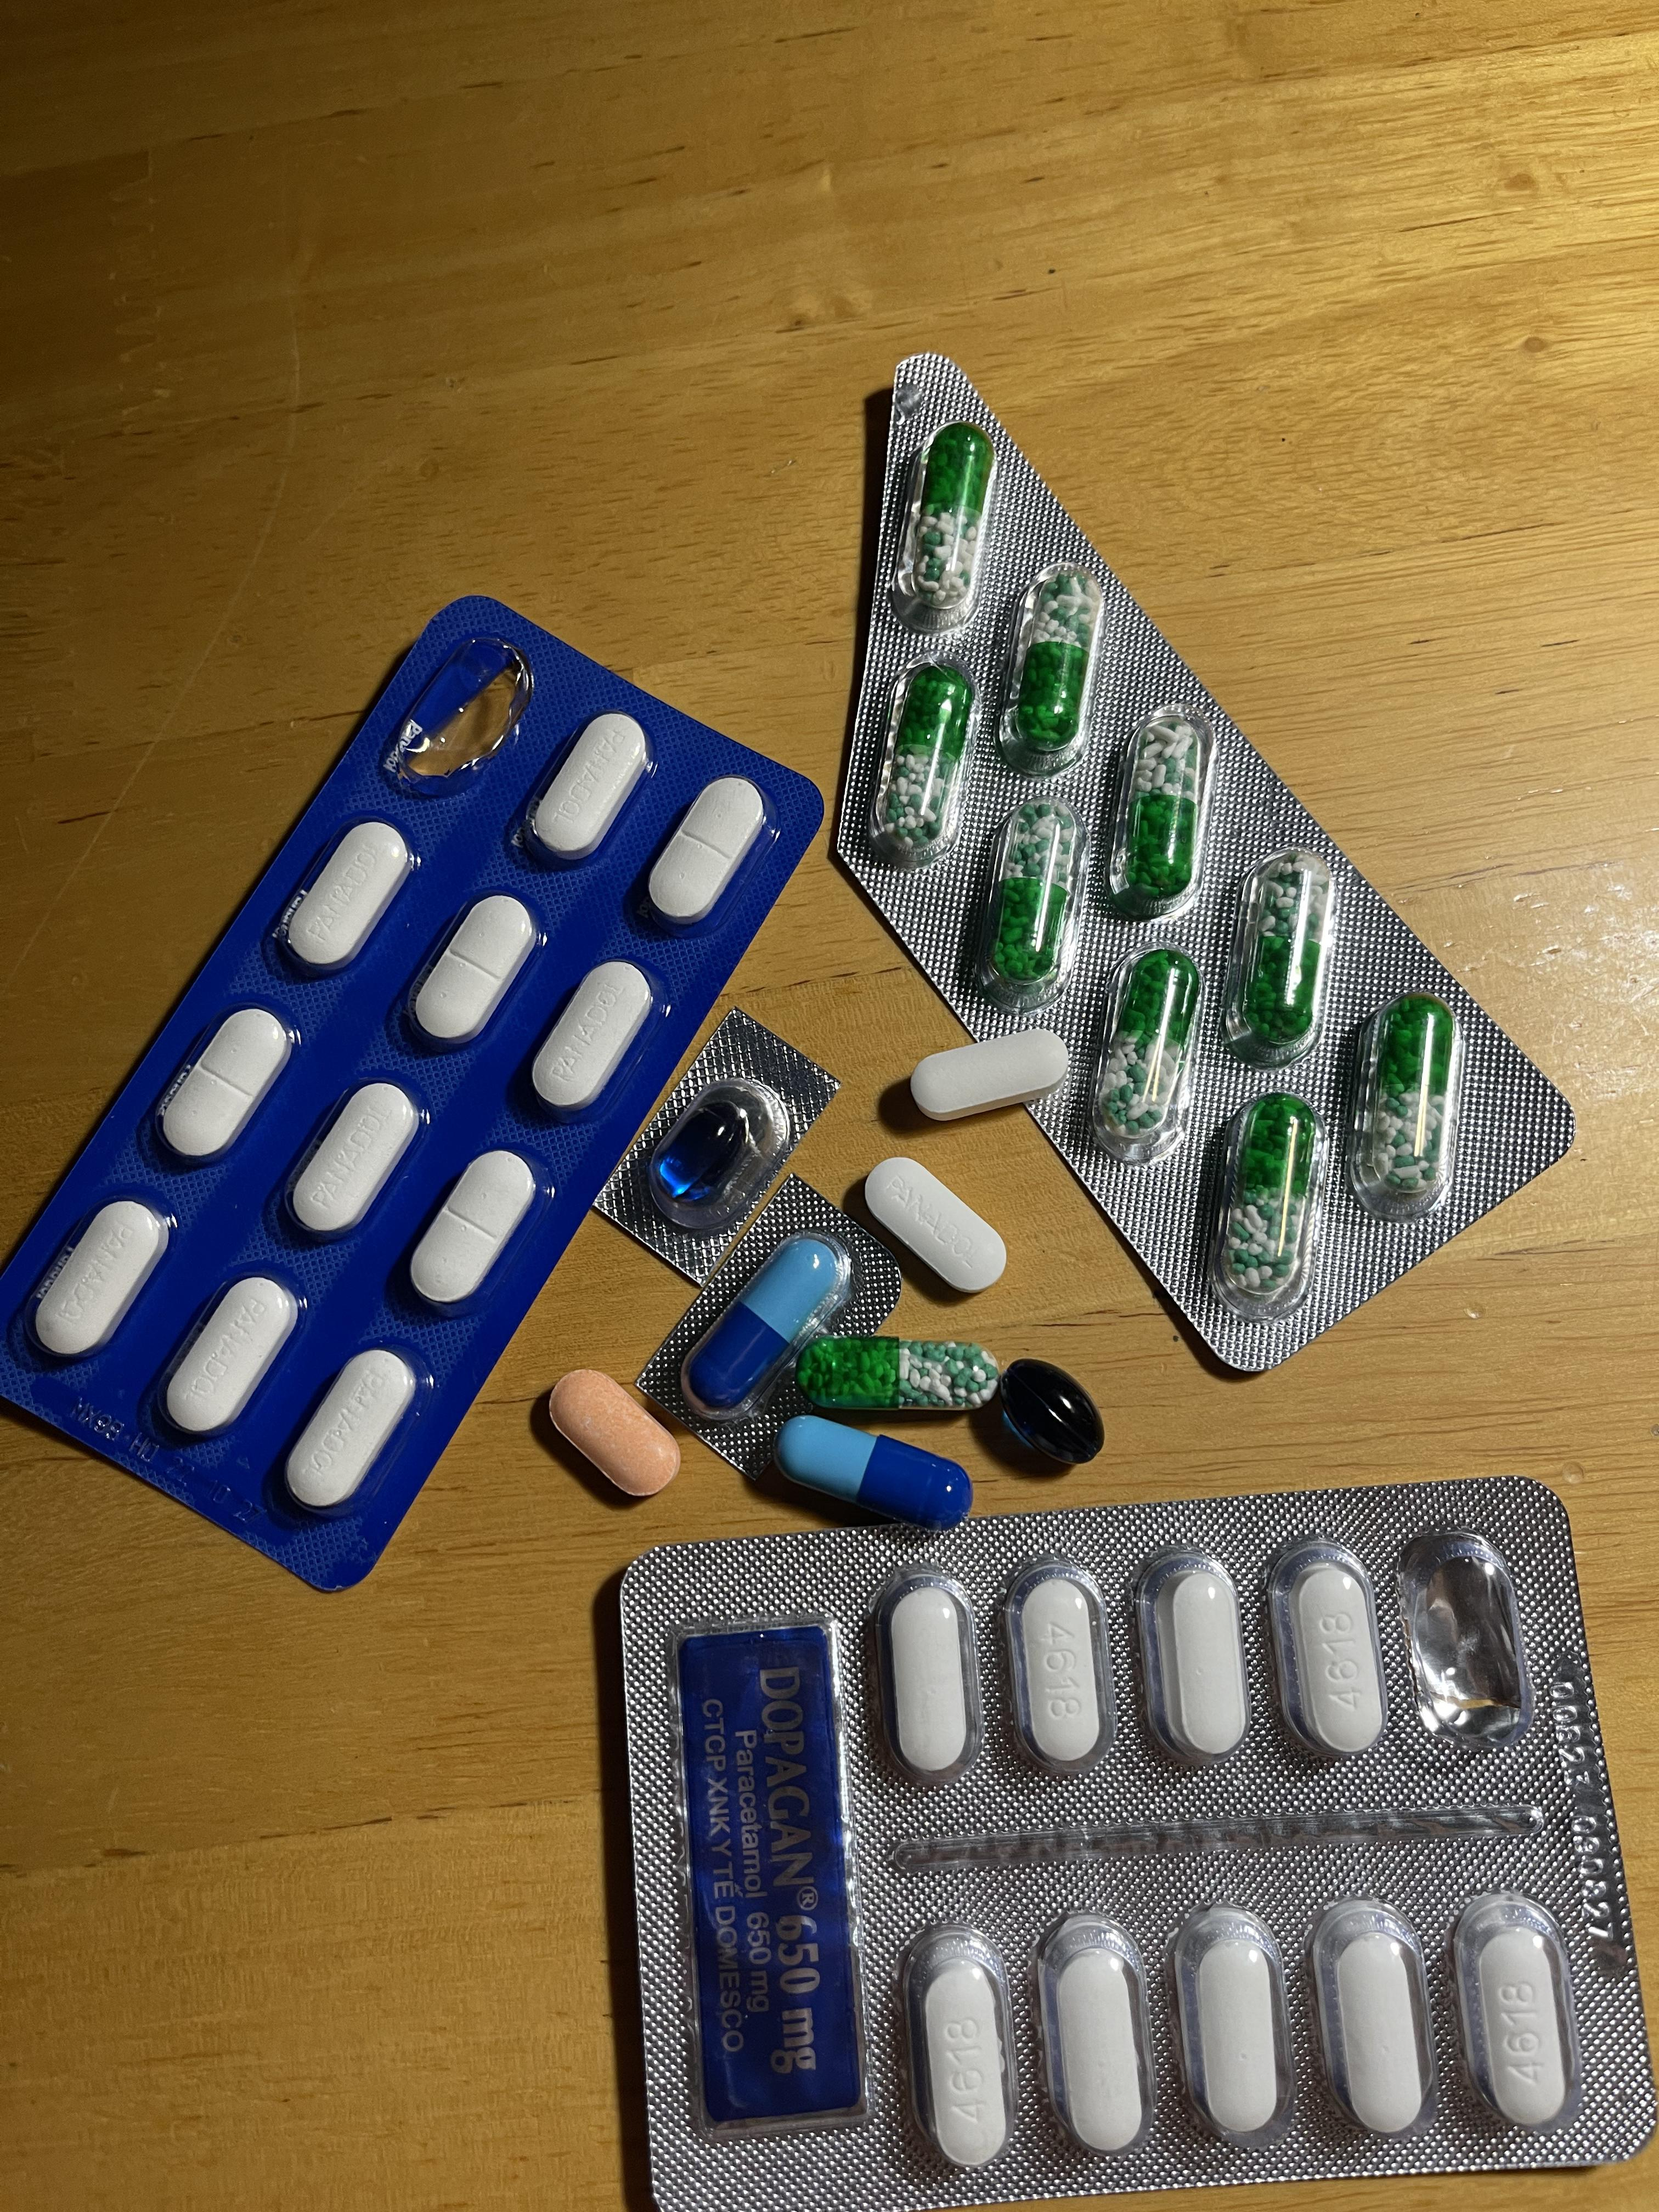Lincomyxin_500mg: (998, 1358, 1104, 1465), (653, 1100, 752, 1201)
Loratadine_10mg: (549, 1369, 688, 1499)
Paracetamol_350mg: (160, 1271, 301, 1440), (32, 1197, 171, 1363), (281, 1346, 419, 1514), (275, 821, 415, 980), (161, 1002, 297, 1163), (287, 1079, 422, 1241), (404, 892, 539, 1053), (640, 775, 771, 938), (529, 955, 661, 1116), (409, 1149, 539, 1311), (861, 1156, 1006, 1297), (522, 712, 650, 868)
Paracetamol_500mg: (1449, 1890, 1583, 2134), (1308, 1897, 1440, 2141), (1172, 1904, 1293, 2149), (1036, 1911, 1155, 2158), (897, 1923, 1014, 2166), (1262, 1539, 1386, 1762), (1001, 1556, 1114, 1777), (1165, 1567, 1246, 1756), (888, 1590, 969, 1773), (912, 1031, 1067, 1124)
Paracetamol_650mg: (1203, 1095, 1316, 1318), (1348, 994, 1460, 1218), (1222, 847, 1333, 1064), (973, 797, 1088, 1004), (1102, 706, 1214, 917), (1093, 947, 1201, 1159), (996, 567, 1107, 774), (868, 659, 980, 861), (896, 424, 995, 629), (804, 1338, 995, 1413)
pill: (683, 1237, 843, 1422), (774, 1416, 962, 1524)
